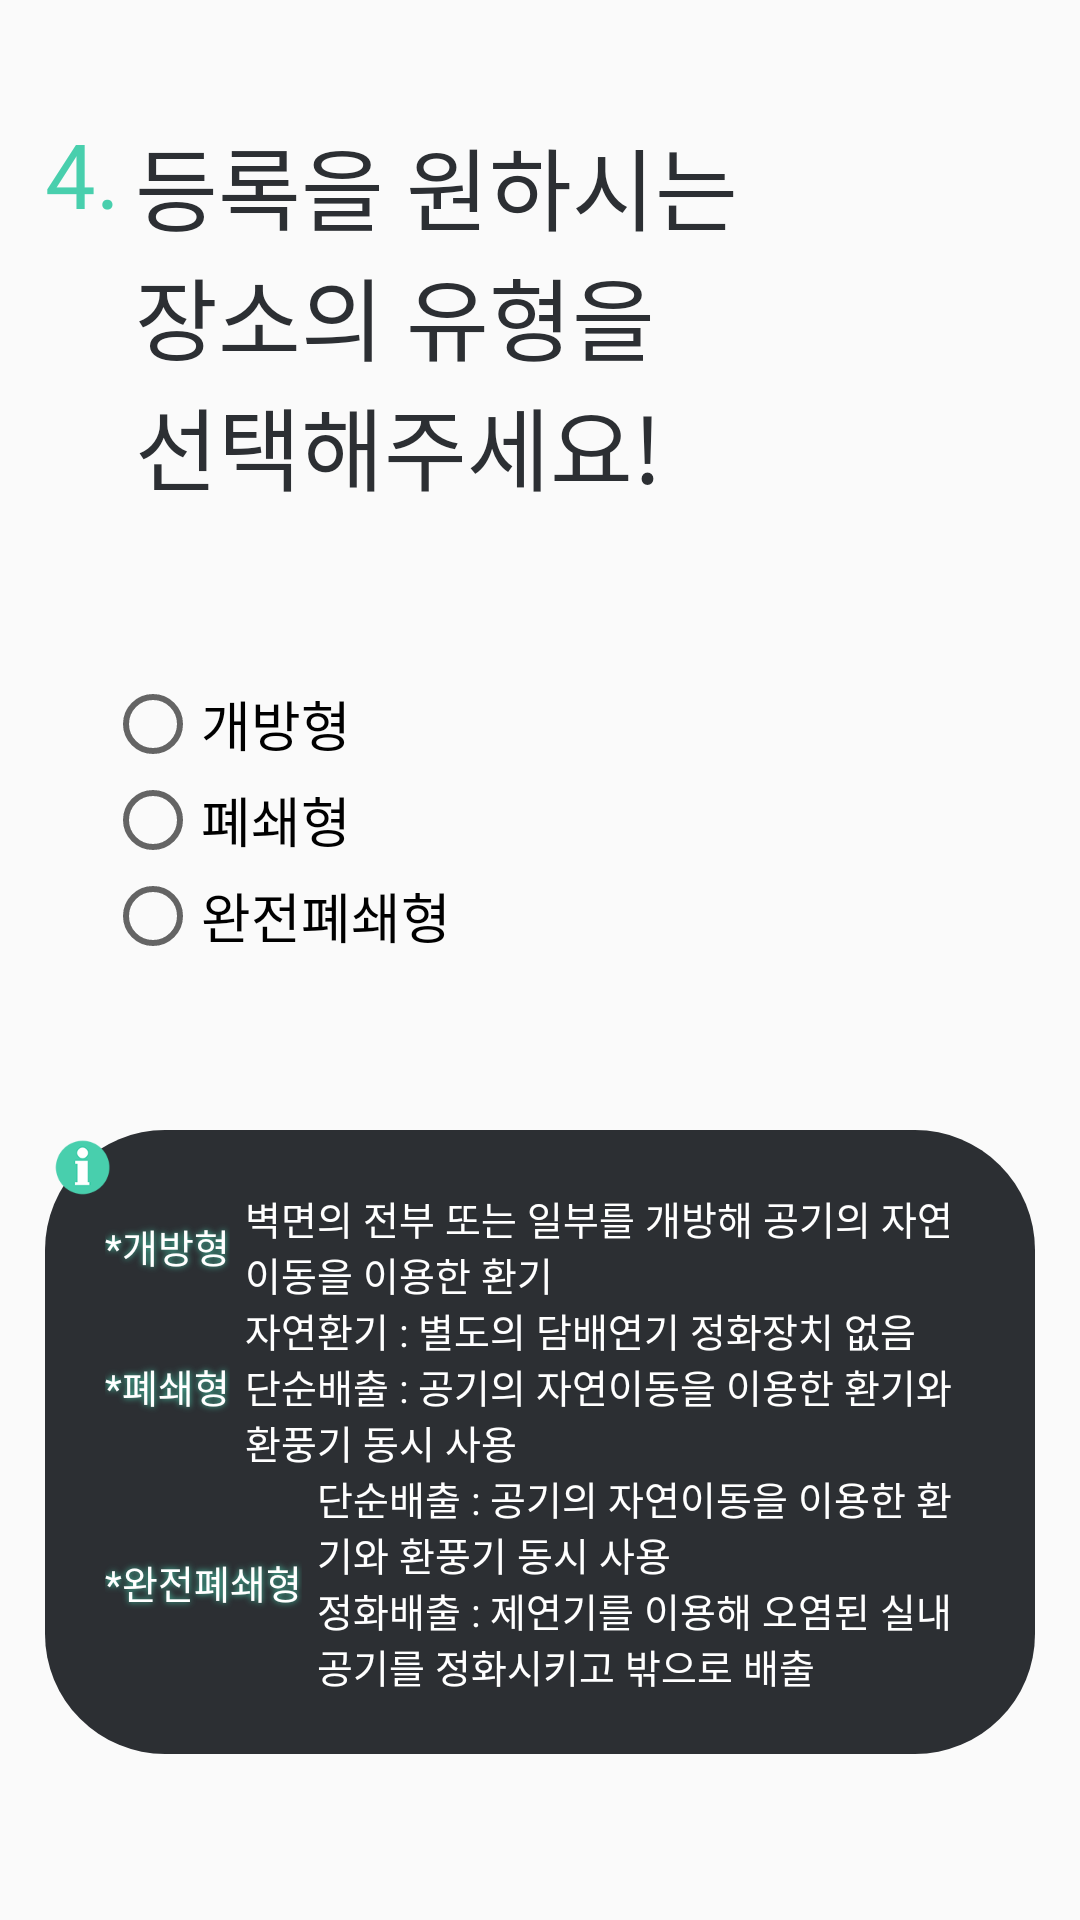

Icons on this 1080w x 1920h Android screen, each with the point to tap as [x,y]:
information: [82,1167]
